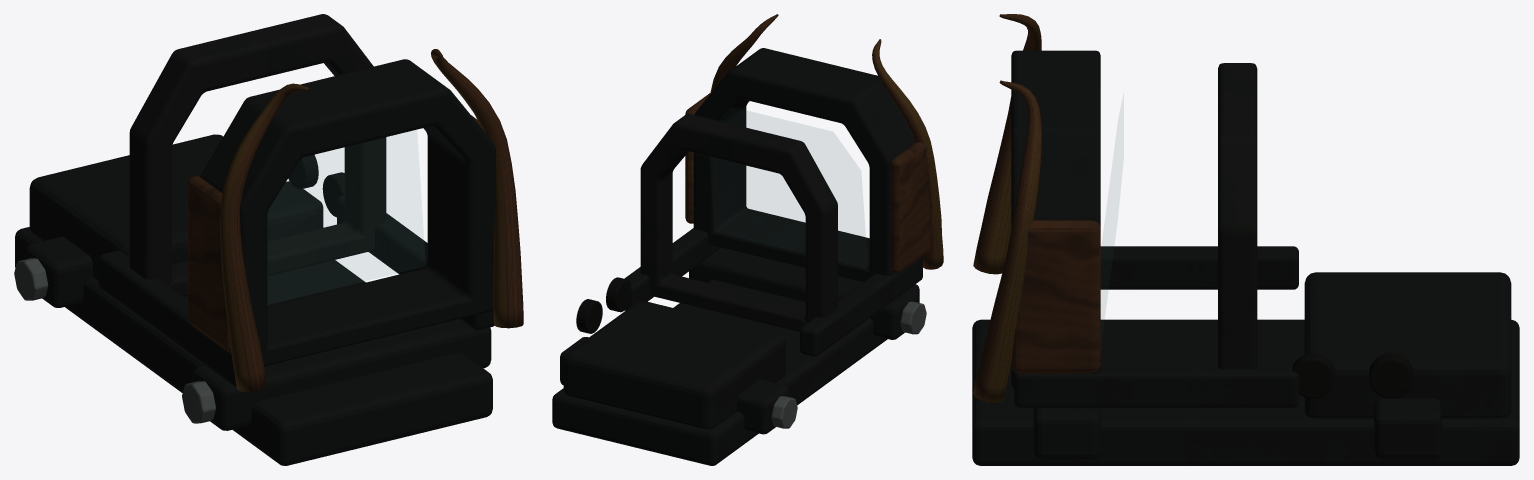
File: Reflex_Branch_Module_Draft01.fbx
The picture shows the model from 3 angles, left to right: view 1: azimuth 30°, elevation 25°; view 2: azimuth 150°, elevation 25°; view 3: azimuth 270°, elevation 25°; orthographic projection. The views are drawn at different scales.
Visible parts, largest first — view 1: SMG_optic_Optic_Anodized_SMG01_Standalone, SMG_optic_Core_Charcoal_SMG01_Standalone, SMG_optic_Bark_Walnut_SMG01_Standalone, SMG_optic_Trim_BrushedSteel_SMG01_Standalone, SMG_optic_Rubber_Soot_SMG01_Standalone; view 2: SMG_optic_Optic_Anodized_SMG01_Standalone, SMG_optic_Core_Charcoal_SMG01_Standalone, SMG_optic_Bark_Walnut_SMG01_Standalone, SMG_optic_Rubber_Soot_SMG01_Standalone, SMG_optic_Trim_BrushedSteel_SMG01_Standalone; view 3: SMG_optic_Optic_Anodized_SMG01_Standalone, SMG_optic_Bark_Walnut_SMG01_Standalone, SMG_optic_Core_Charcoal_SMG01_Standalone, SMG_optic_Rubber_Soot_SMG01_Standalone.
Part boxes in pixels (<box>): SMG_optic_Optic_Anodized_SMG01_Standalone: <box>15,59,495,465</box>; SMG_optic_Core_Charcoal_SMG01_Standalone: <box>129,14,386,296</box>; SMG_optic_Bark_Walnut_SMG01_Standalone: <box>188,49,523,391</box>; SMG_optic_Trim_BrushedSteel_SMG01_Standalone: <box>14,258,215,423</box>; SMG_optic_Rubber_Soot_SMG01_Standalone: <box>288,154,344,217</box>; SMG_optic_Optic_Anodized_SMG01_Standalone: <box>552,48,922,465</box>; SMG_optic_Core_Charcoal_SMG01_Standalone: <box>640,114,837,331</box>; SMG_optic_Bark_Walnut_SMG01_Standalone: <box>685,14,943,273</box>; SMG_optic_Rubber_Soot_SMG01_Standalone: <box>576,277,631,333</box>; SMG_optic_Trim_BrushedSteel_SMG01_Standalone: <box>771,301,926,428</box>; SMG_optic_Optic_Anodized_SMG01_Standalone: <box>972,50,1519,465</box>; SMG_optic_Bark_Walnut_SMG01_Standalone: <box>973,14,1100,402</box>; SMG_optic_Core_Charcoal_SMG01_Standalone: <box>1218,63,1257,369</box>; SMG_optic_Rubber_Soot_SMG01_Standalone: <box>1292,353,1413,398</box>.
Bounding box in the file's own units: 6.2 × 7.27 × 9.8.
